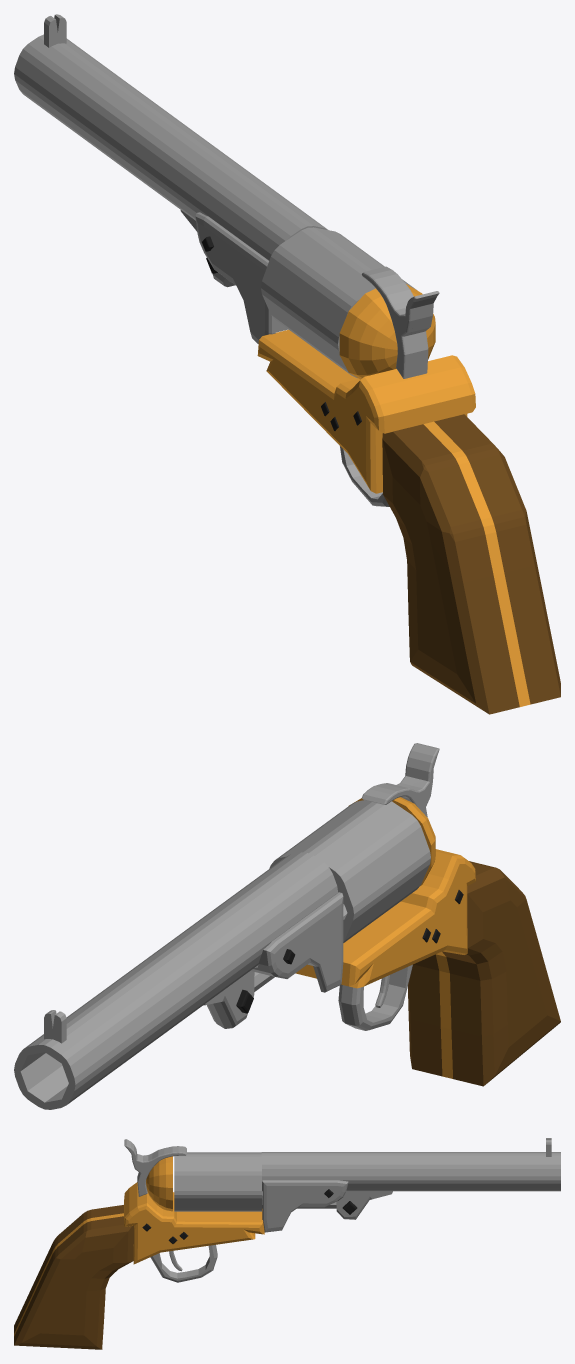
Rendered from Revolver_Var_02.fbx.
The picture shows the model from 3 angles, top to bottom: view 1: azimuth 30°, elevation 25°; view 2: azimuth 150°, elevation 25°; view 3: azimuth 270°, elevation 25°; orthographic projection. The views are drawn at different scales.
Parts seen in each view (by area): view 1: Holder, Barrel.001, Main, Cylinder, Barrel_Back, Plane, Hammer; view 2: Barrel.001, Holder, Cylinder, Main, Plane, Hammer, Trigger_Guard, Plane.002, Barrel_Back, Pins, Aim; view 3: Barrel.001, Holder, Main, Cylinder, Plane, Barrel_Back, Hammer, Trigger_Guard, Plane.002, Pins.
Part boxes in pixels (<box>): Holder: <box>382,414,560,714</box>; Barrel.001: <box>14,34,328,260</box>; Main: <box>257,329,475,493</box>; Cylinder: <box>261,227,416,378</box>; Barrel_Back: <box>339,284,435,379</box>; Plane: <box>195,212,288,343</box>; Hammer: <box>361,266,439,378</box>; Barrel.001: <box>14,852,338,1109</box>; Holder: <box>408,861,560,1086</box>; Cylinder: <box>269,800,430,942</box>; Main: <box>295,849,475,988</box>; Plane: <box>251,892,343,992</box>; Hammer: <box>361,743,439,817</box>; Trigger_Guard: <box>338,964,412,1030</box>; Plane.002: <box>203,970,254,1028</box>; Barrel_Back: <box>349,797,435,885</box>; Pins: <box>236,890,463,1013</box>; Aim: <box>44,1010,66,1043</box>; Barrel.001: <box>261,1152,560,1191</box>; Holder: <box>14,1205,133,1349</box>; Main: <box>124,1182,264,1264</box>; Cylinder: <box>174,1152,261,1211</box>; Plane: <box>262,1180,348,1232</box>; Barrel_Back: <box>146,1156,172,1211</box>; Hammer: <box>124,1139,186,1196</box>; Trigger_Guard: <box>150,1245,217,1282</box>; Plane.002: <box>336,1191,392,1219</box>; Pins: <box>142,1189,357,1243</box>.
Size of the model in its own units: 24.12 by 78.25 by 193.
